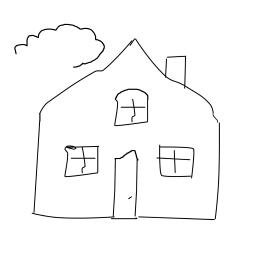chimney: (162, 41, 210, 92)
closed_window: (109, 88, 161, 130), (153, 143, 199, 185), (62, 140, 102, 180)
clouds: (3, 14, 111, 75)
door: (106, 142, 146, 223)
single_line_roof: (34, 36, 226, 107)
wall: (29, 110, 227, 223)
